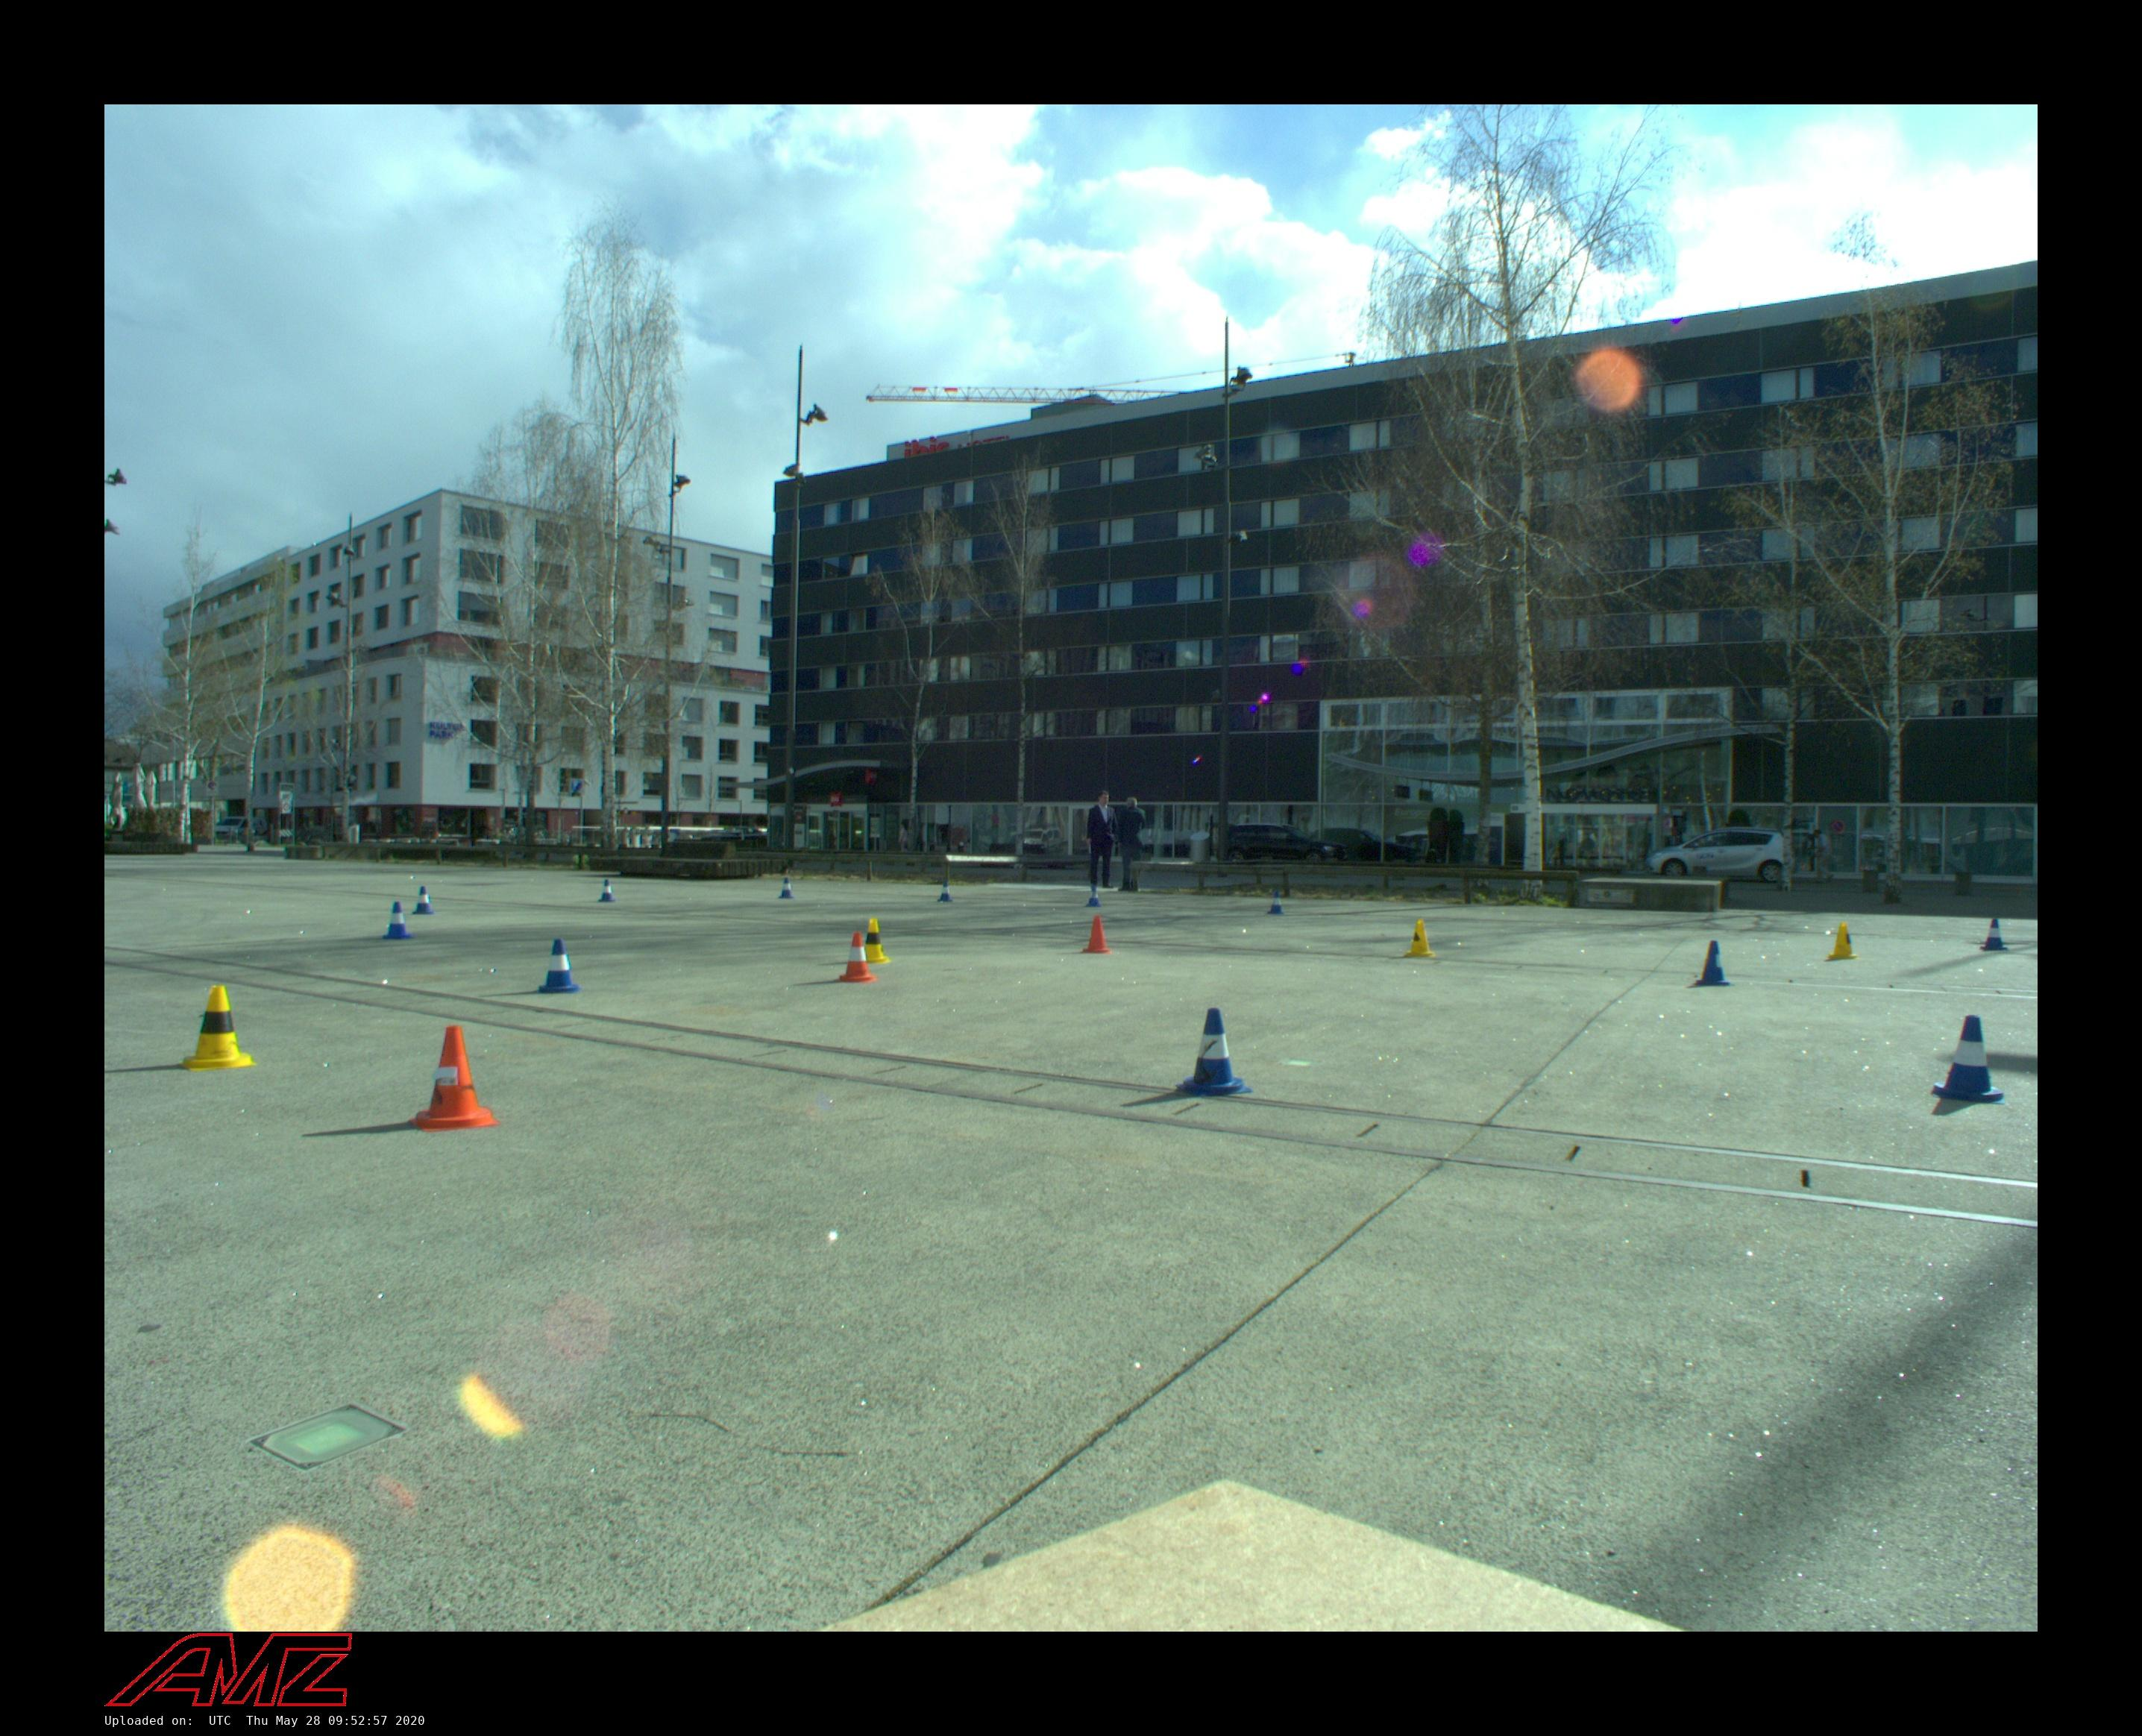blue_cone: (1176, 1007, 1253, 1097), (1929, 1014, 2005, 1104), (538, 939, 581, 994), (1695, 940, 1734, 987), (383, 902, 414, 940), (1980, 919, 2008, 952), (412, 886, 435, 915), (597, 879, 617, 902), (1267, 892, 1285, 914), (937, 882, 955, 902), (1085, 887, 1103, 908), (778, 878, 794, 899)
orange_cone: (410, 1025, 497, 1133), (838, 933, 879, 984), (1081, 916, 1112, 955)
yellow_cone: (178, 984, 258, 1072), (853, 918, 891, 965), (1404, 919, 1438, 959), (1827, 922, 1860, 960)
